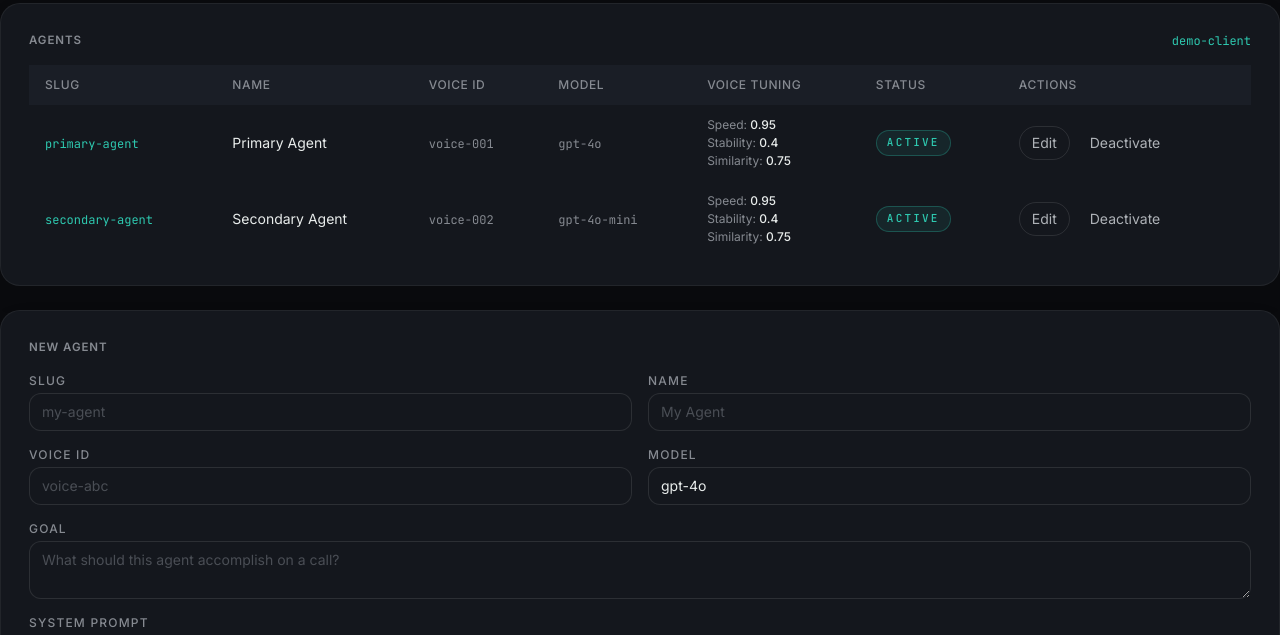
Test case: AgentsSection effective config › renders a locked config field as read-only, not merely disabled
Click the button "Edit" in the row of "primary-agent" at (1044, 143), box [1019, 126, 1070, 160]
(page scrolled)
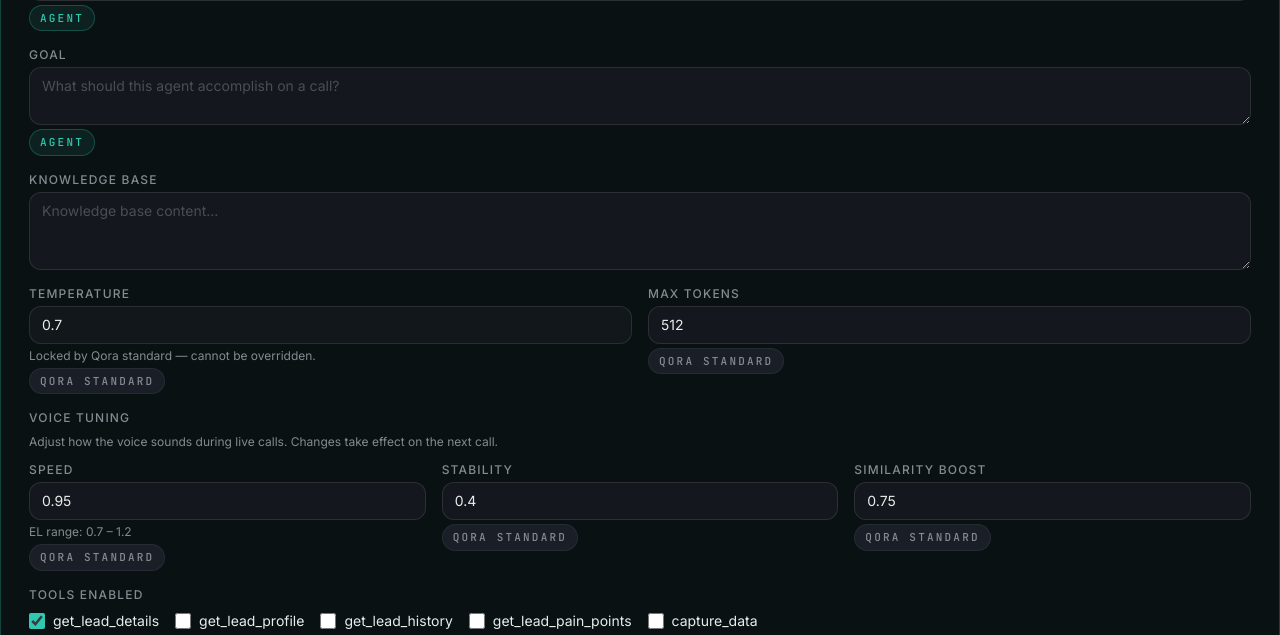
Now the text "Locked by Qora standard — cannot be overridden." is shown, box [29, 348, 316, 363]
